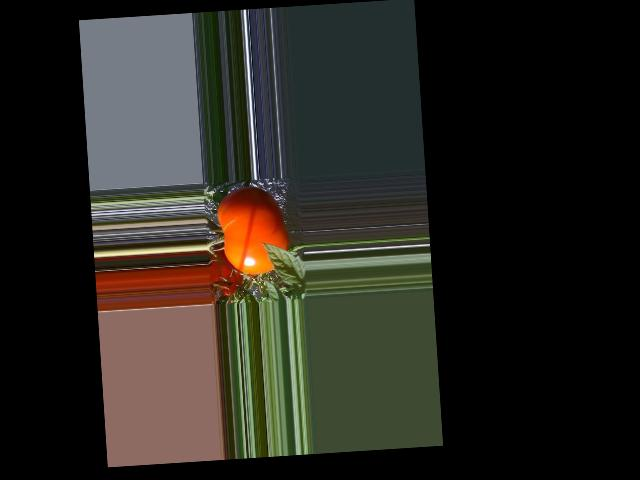tomato: (215, 184, 291, 277)
